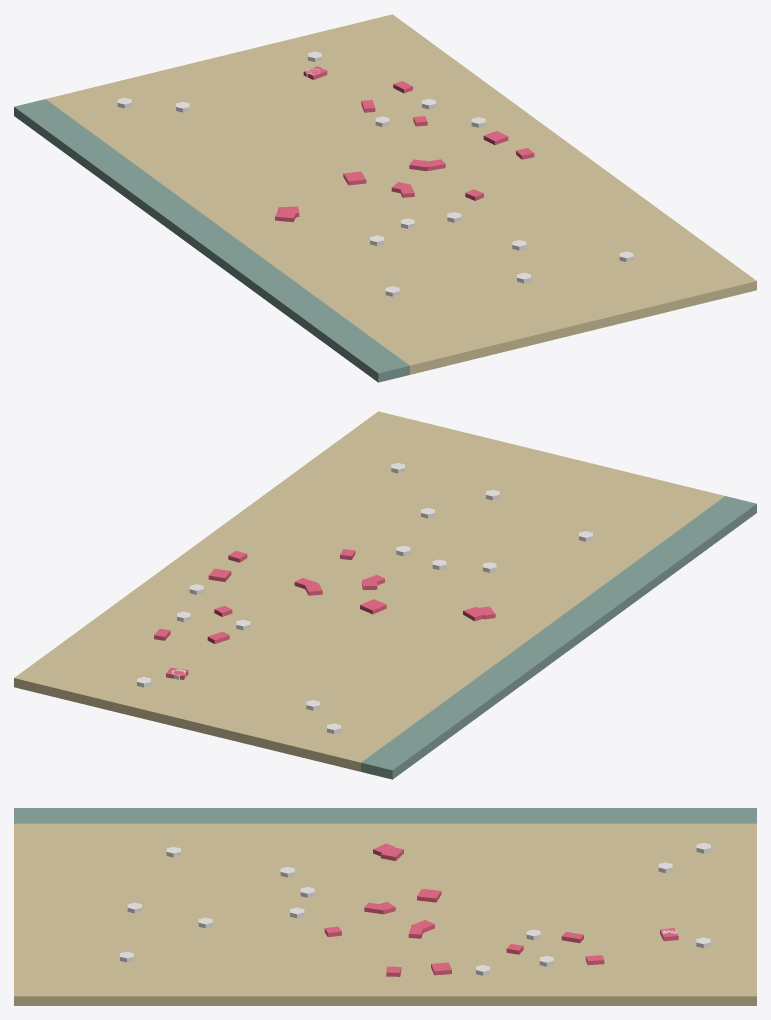
Rendered from env_r15_verge.glb.
3 renders of one model, top to bottom at view 1: azimuth 30°, elevation 25°; view 2: azimuth 150°, elevation 25°; view 3: azimuth 270°, elevation 25°, orthographic.
Visible parts, largest first — view 1: env_r15_verge; view 2: env_r15_verge; view 3: env_r15_verge.
Part boxes in pixels (x1,y1,x2,y2): env_r15_verge: (14, 14, 756, 382); env_r15_verge: (14, 411, 756, 779); env_r15_verge: (14, 808, 756, 1005).
Bounding box in the file's own units: 6 × 0.2 × 10.
Materials: 1 (1 with a texture image).
